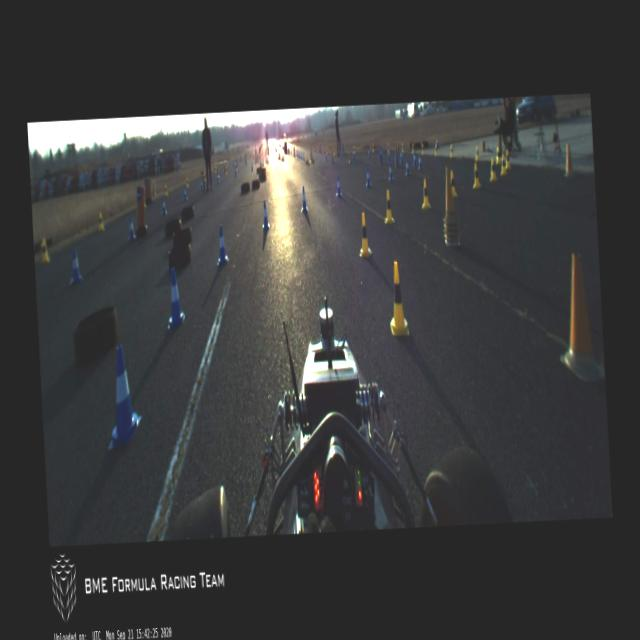blue_cone: (104, 344, 144, 451), (164, 266, 186, 328), (215, 224, 229, 266), (68, 249, 83, 284), (261, 200, 270, 230), (300, 185, 308, 213), (127, 216, 136, 240), (334, 174, 342, 199), (364, 166, 372, 188), (162, 197, 168, 215), (404, 159, 410, 176), (182, 185, 188, 201), (388, 162, 393, 181), (412, 150, 417, 166), (418, 153, 422, 170), (387, 148, 391, 162), (199, 178, 203, 191), (216, 171, 220, 184), (400, 150, 403, 162), (436, 138, 438, 146)
yellow_cone: (388, 261, 409, 336), (358, 212, 372, 258), (382, 190, 394, 224), (420, 178, 430, 209), (40, 238, 50, 263), (472, 164, 481, 188), (450, 171, 458, 197), (489, 157, 497, 180), (504, 149, 512, 169), (500, 153, 507, 175), (98, 212, 104, 231), (495, 146, 501, 164), (475, 145, 479, 161), (450, 146, 454, 158), (421, 144, 425, 156), (411, 142, 414, 156), (435, 144, 438, 156), (401, 142, 404, 154), (186, 176, 189, 188), (165, 185, 168, 196), (204, 174, 206, 183)
